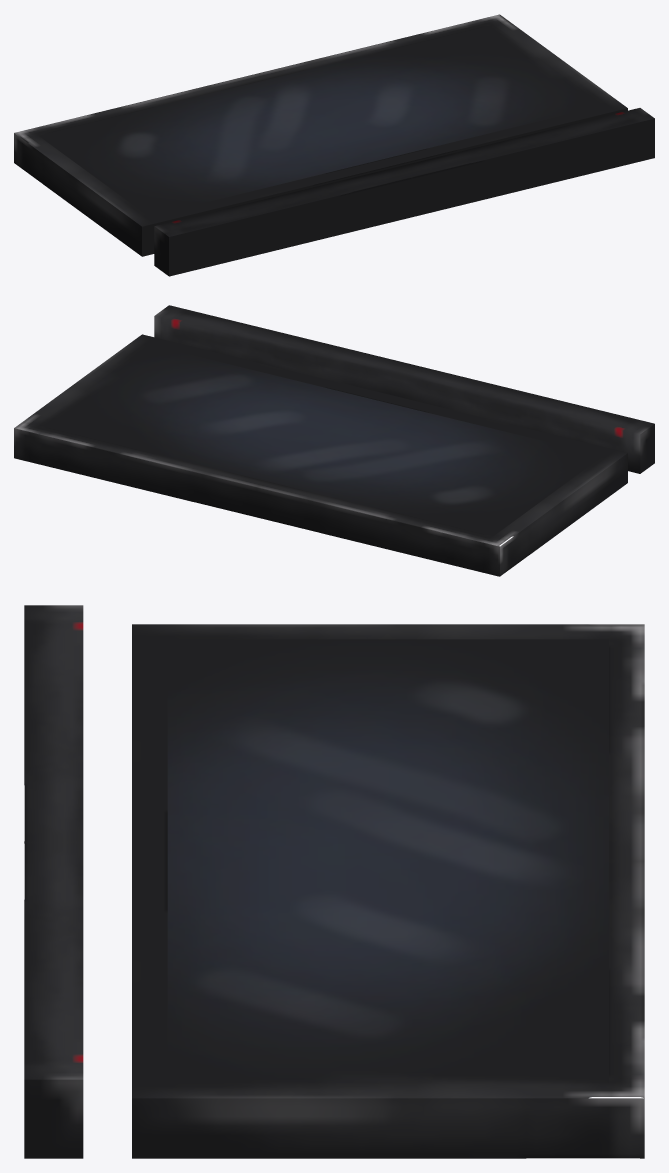
File: props_tv_big.fbx
3 renders of one model, top to bottom at view 1: azimuth 30°, elevation 25°; view 2: azimuth 150°, elevation 25°; view 3: azimuth 270°, elevation 25°, orthographic. The views are drawn at different scales.
Visible parts, largest first — view 1: tv_big; view 2: tv_big; view 3: tv_big.
Part boxes in pixels (x1,y1,x2,y2): tv_big: [14, 14, 654, 276]; tv_big: [14, 305, 654, 576]; tv_big: [24, 605, 644, 1158].
Size of the model in its own units: 1.92 by 0.1493 by 1.06.
1 material, 1 textured.
